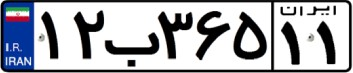character: (102, 29, 161, 69), (194, 5, 231, 67), (159, 4, 195, 63), (232, 9, 269, 66), (72, 6, 105, 64), (38, 7, 63, 64), (315, 18, 343, 67), (280, 18, 307, 67)
